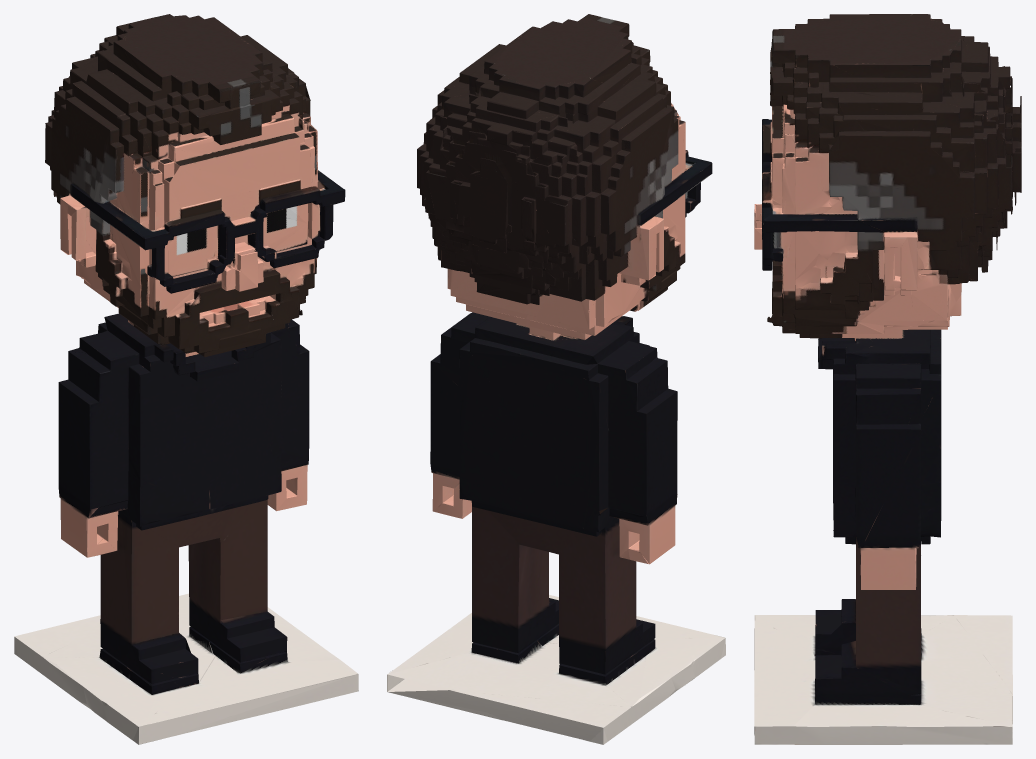
Rendered from william.glb.
3 views of the same model, side by side, from view 1: azimuth 30°, elevation 25°; view 2: azimuth 150°, elevation 25°; view 3: azimuth 270°, elevation 25° (orthographic). The views are drawn at different scales.
Size of the model in its own units: 0.701 by 1.9 by 0.709.
Materials: 1 (1 with a texture image).
